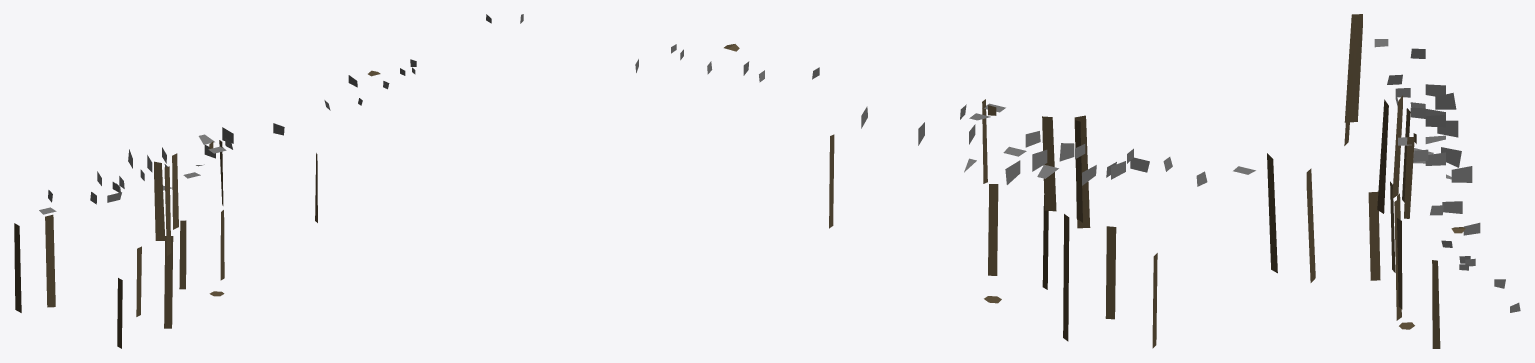
File: Axe.fbx
3 renders of one model, left to right at view 1: azimuth 30°, elevation 25°; view 2: azimuth 150°, elevation 25°; view 3: azimuth 270°, elevation 25°, orthographic. The views are drawn at different scales.
Visible parts, largest first — view 1: Axe; view 2: Axe; view 3: Axe.
Part boxes in pixels (x1,y1,x2,y2): Axe: [14, 14, 491, 348]; Axe: [520, 14, 1315, 348]; Axe: [1344, 14, 1520, 348].
Size of the model in its own units: 244 by 83.33 by 54.55.
